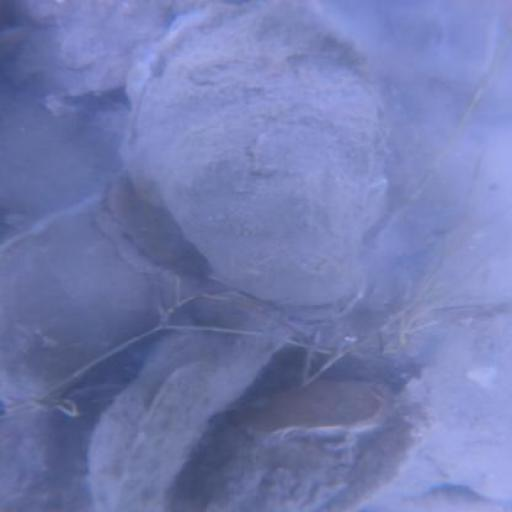Oyster-Closed: (90, 295, 300, 512), (1, 209, 191, 412), (322, 408, 440, 512), (235, 380, 391, 446)
Oyster-Open: (125, 1, 401, 326)
